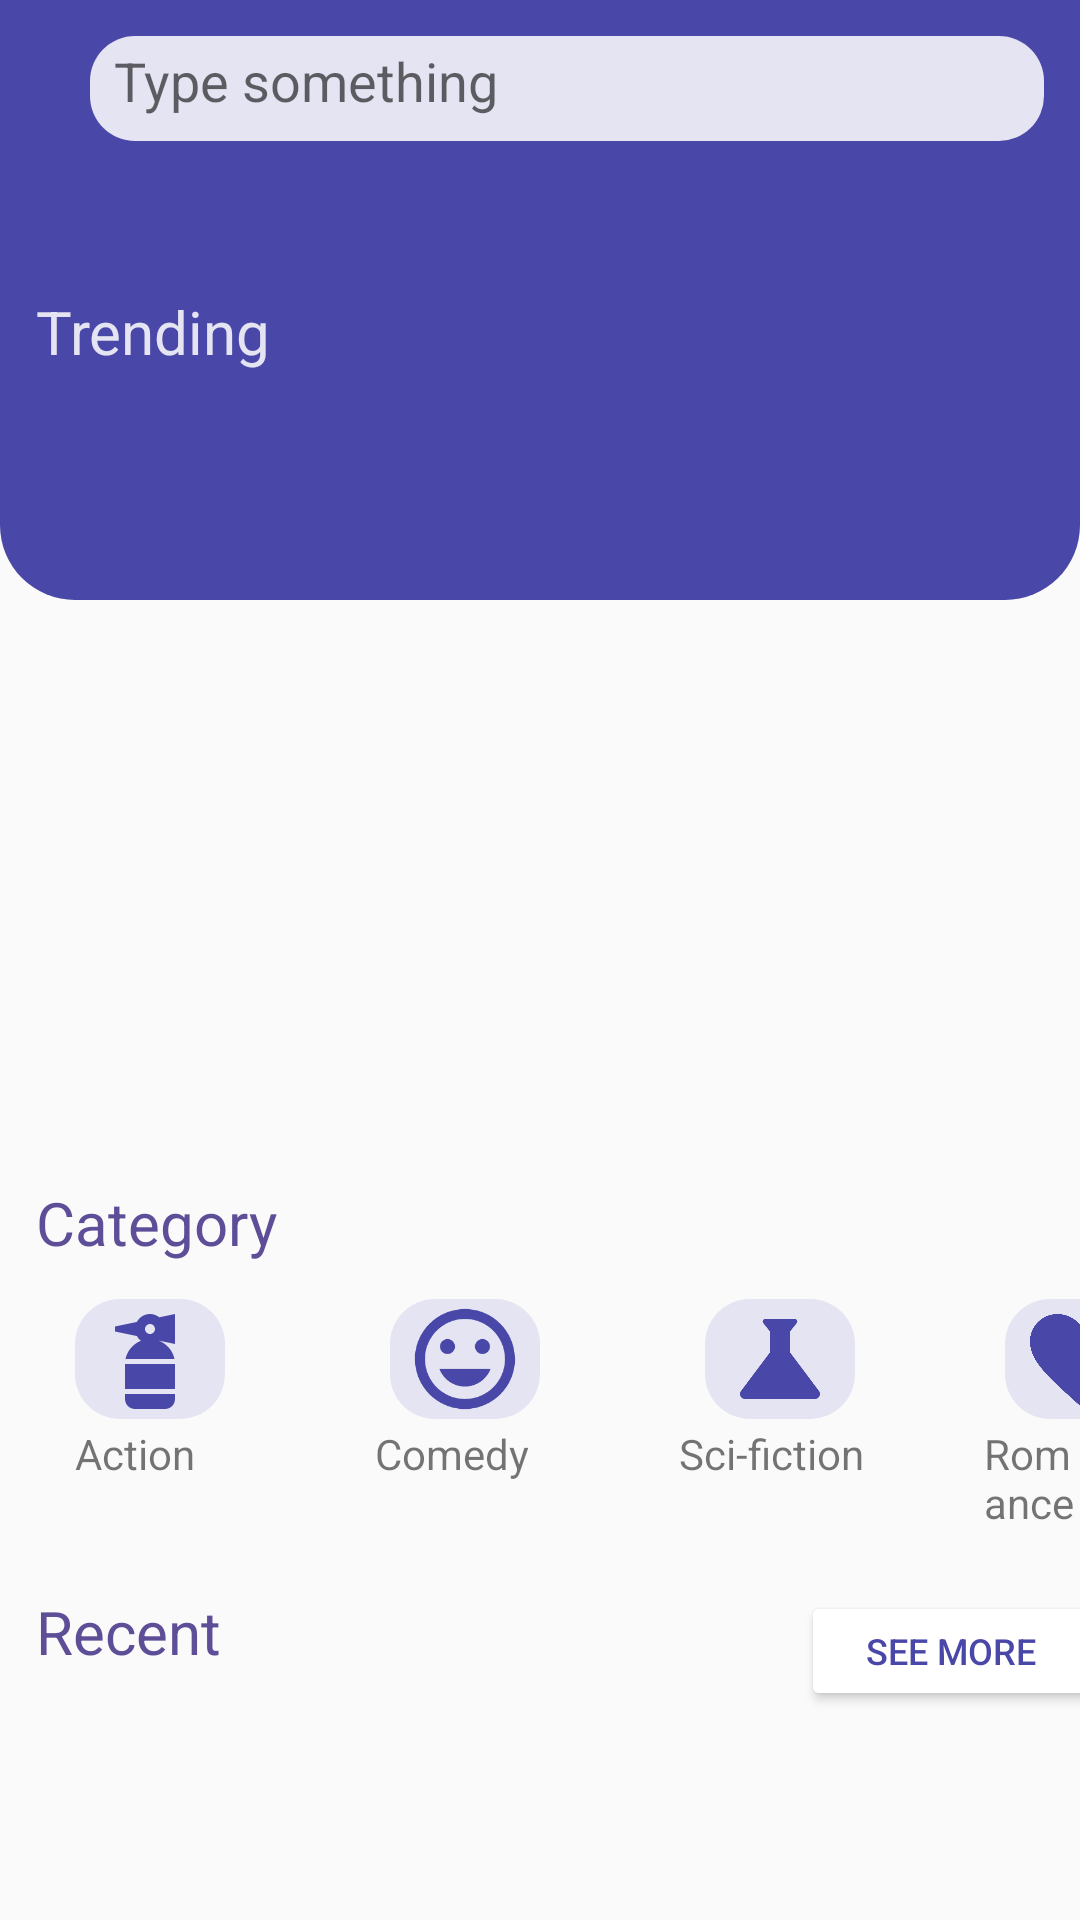

Named icons in this screenshot (1080*1920) and their centers, point (x, y):
science: point (780, 1359)
